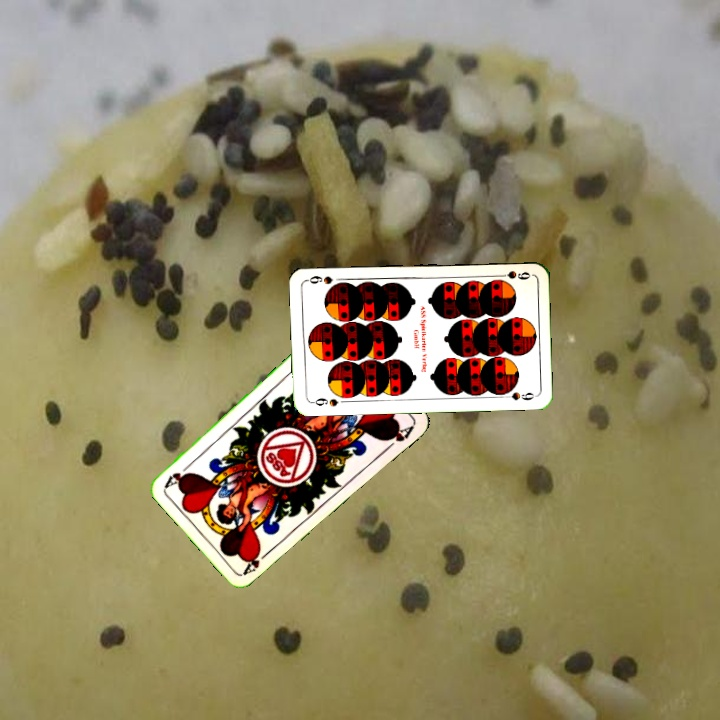HA: (239, 546, 274, 577)
S9: (492, 267, 533, 282), (307, 394, 341, 409)
